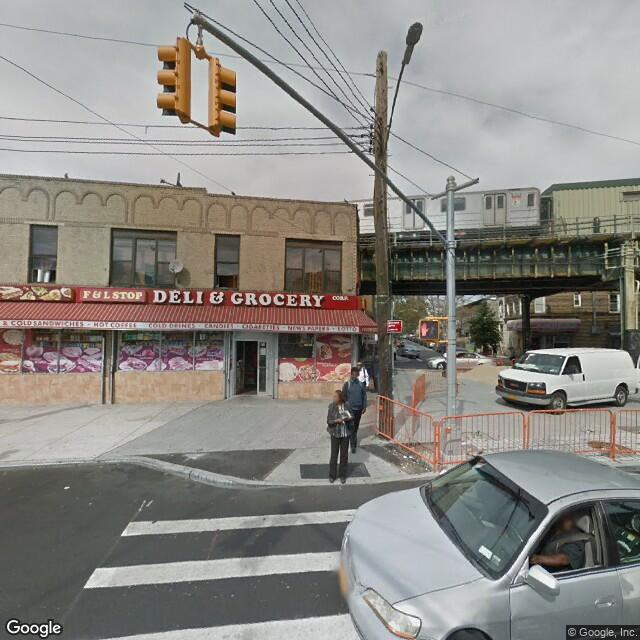litter: (288, 495, 297, 503), (402, 454, 413, 460), (61, 484, 70, 490)
